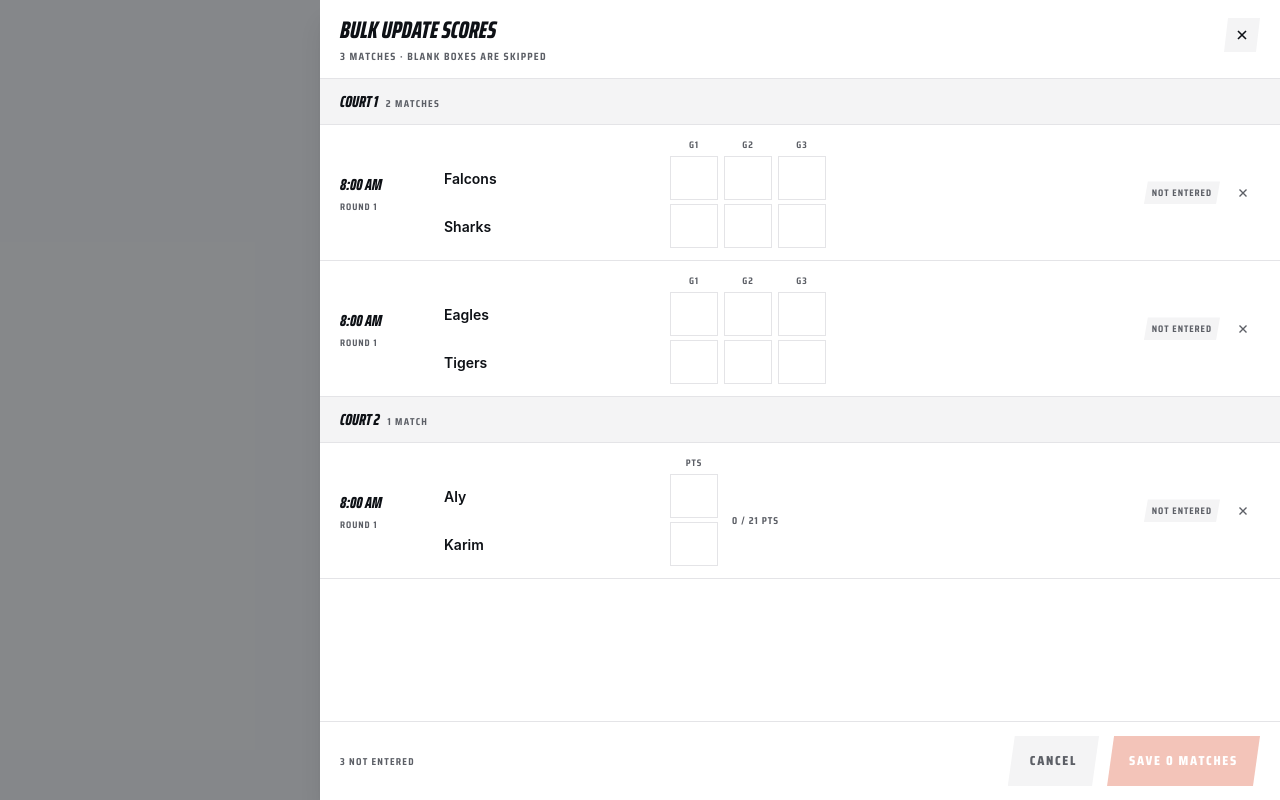
Scenario: keeps a failed row editable and locks the saved one
Type "21" into the field named "Falcons game 1" at coordinates (694, 178), box 670,156 -> 718,200
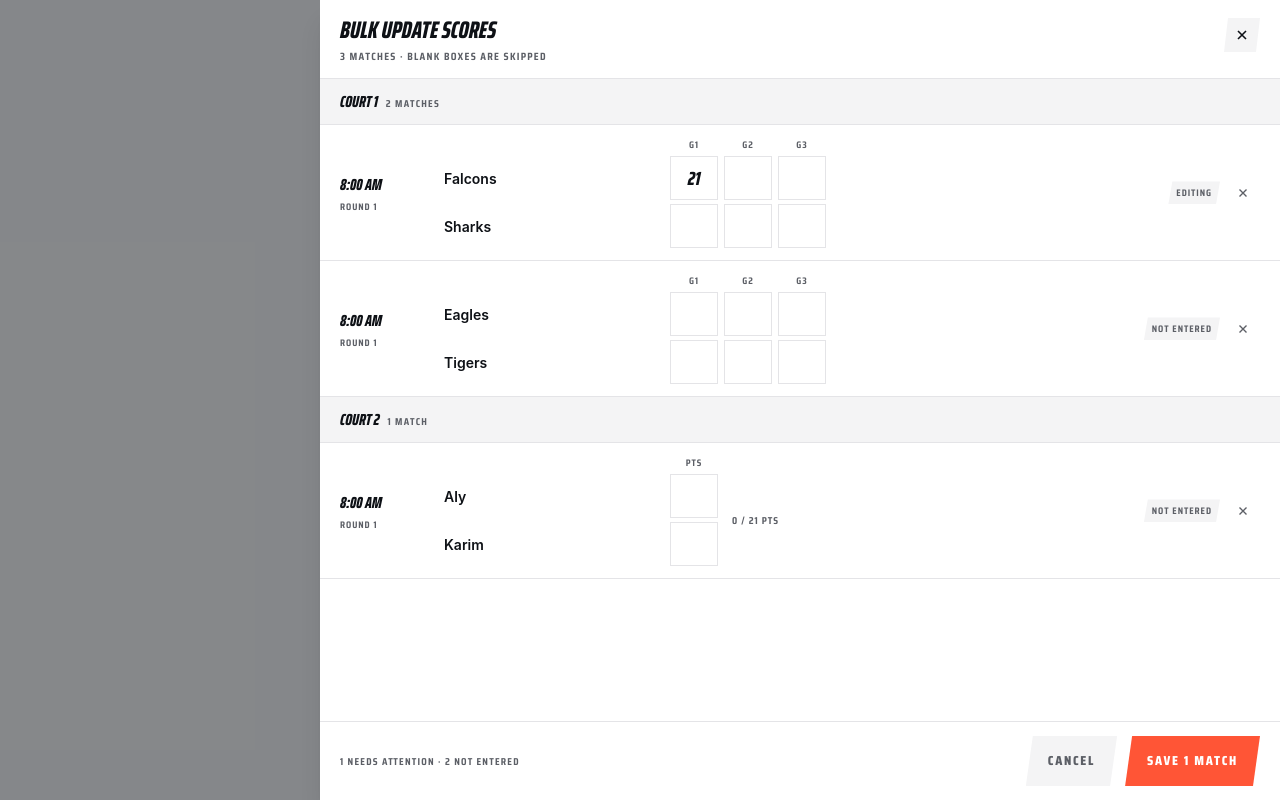
Type "17" into the field named "Sharks game 1" at coordinates (694, 226), box 670,204 -> 718,248
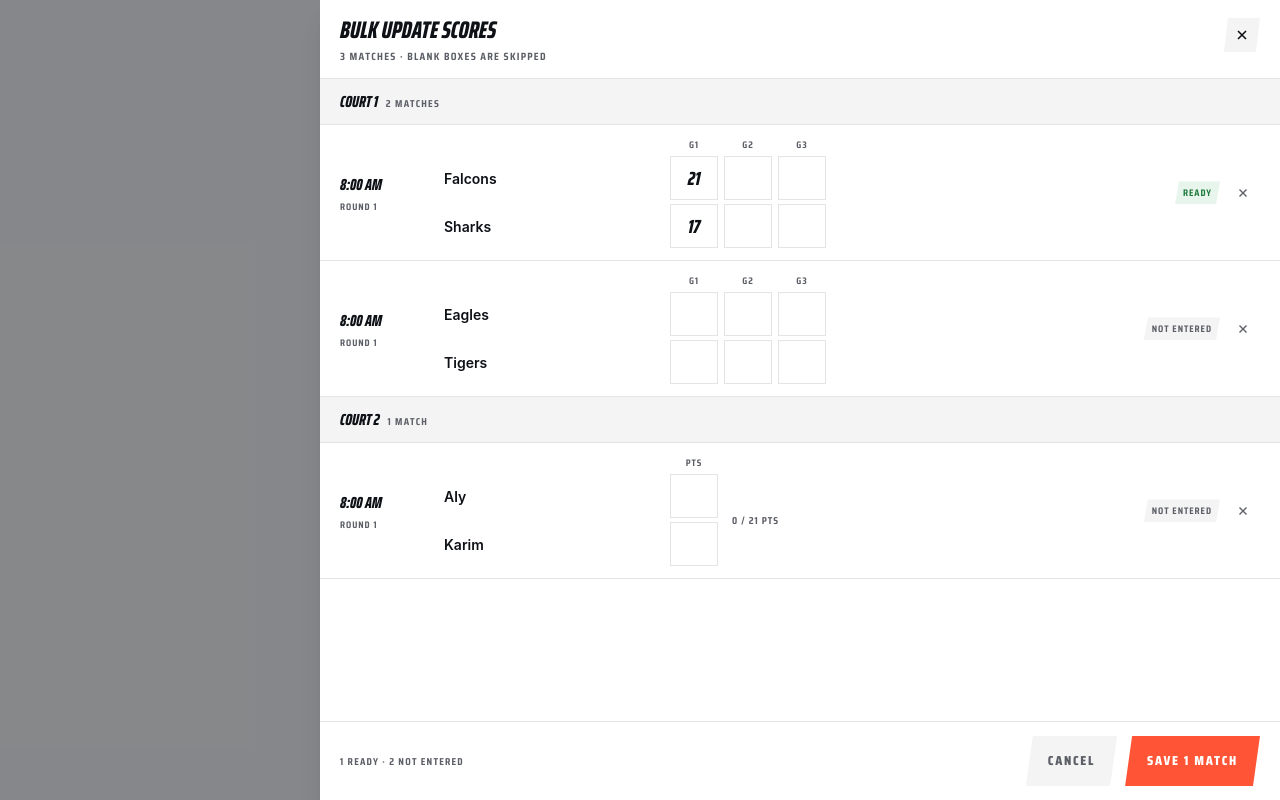
Type "21" into the field named "Eagles game 1" at coordinates (694, 314), box 670,292 -> 718,336
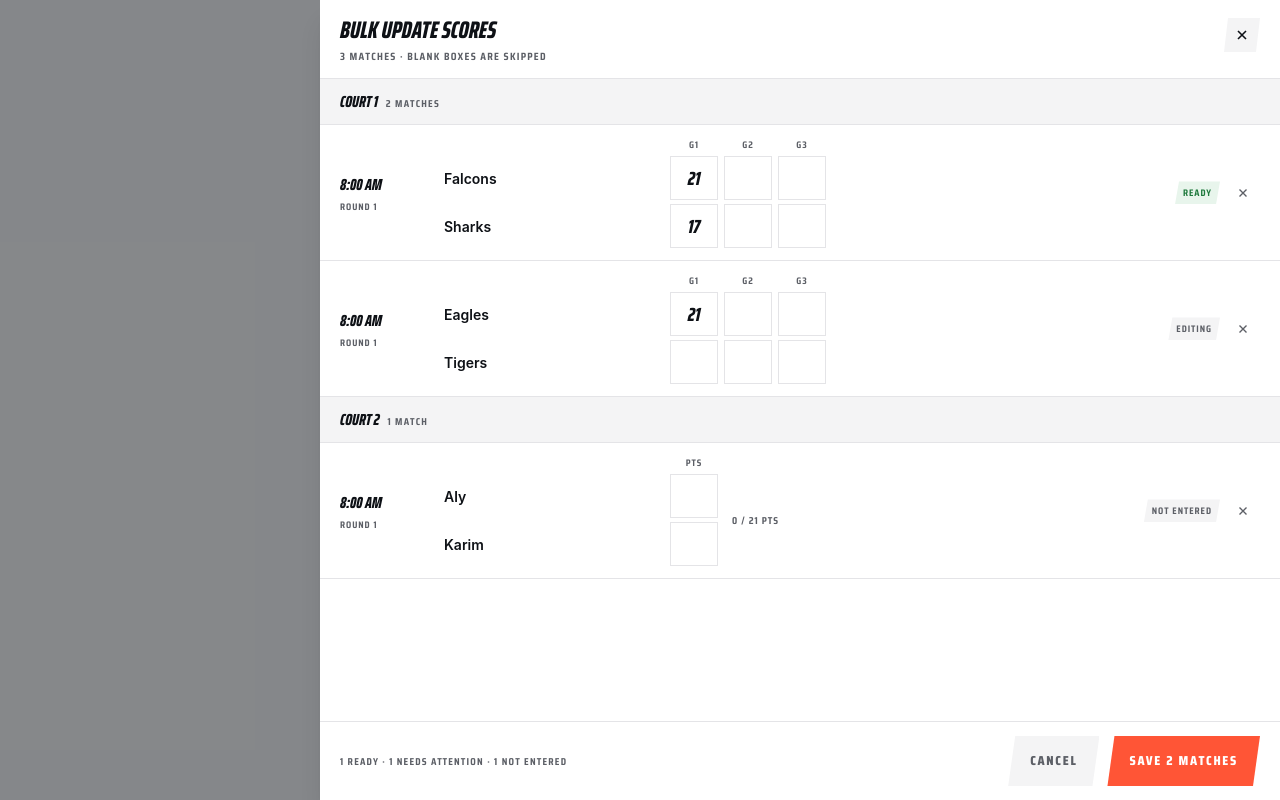
Type "15" into the field named "Tigers game 1" at coordinates (694, 362), box 670,340 -> 718,384
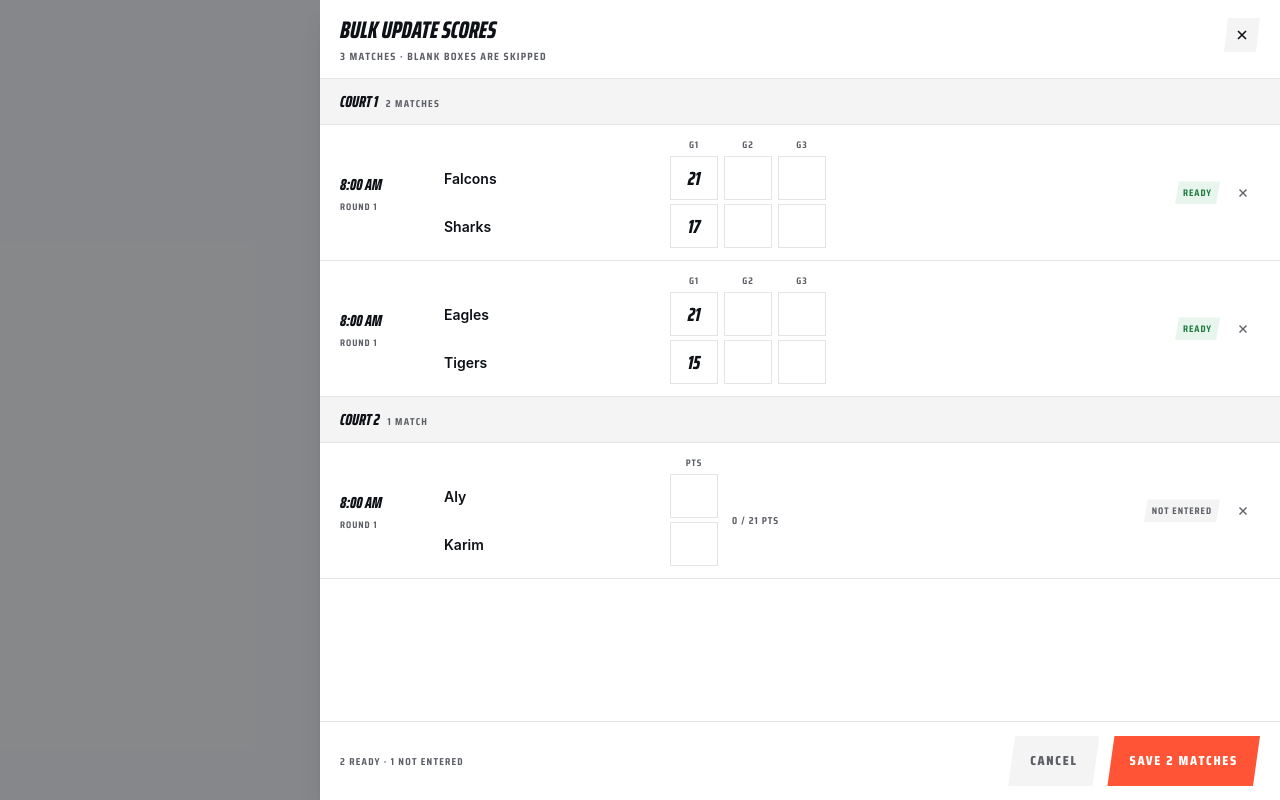
Click the button "Save 2 matches" at coordinates (1184, 761), box 1108,736 -> 1260,786
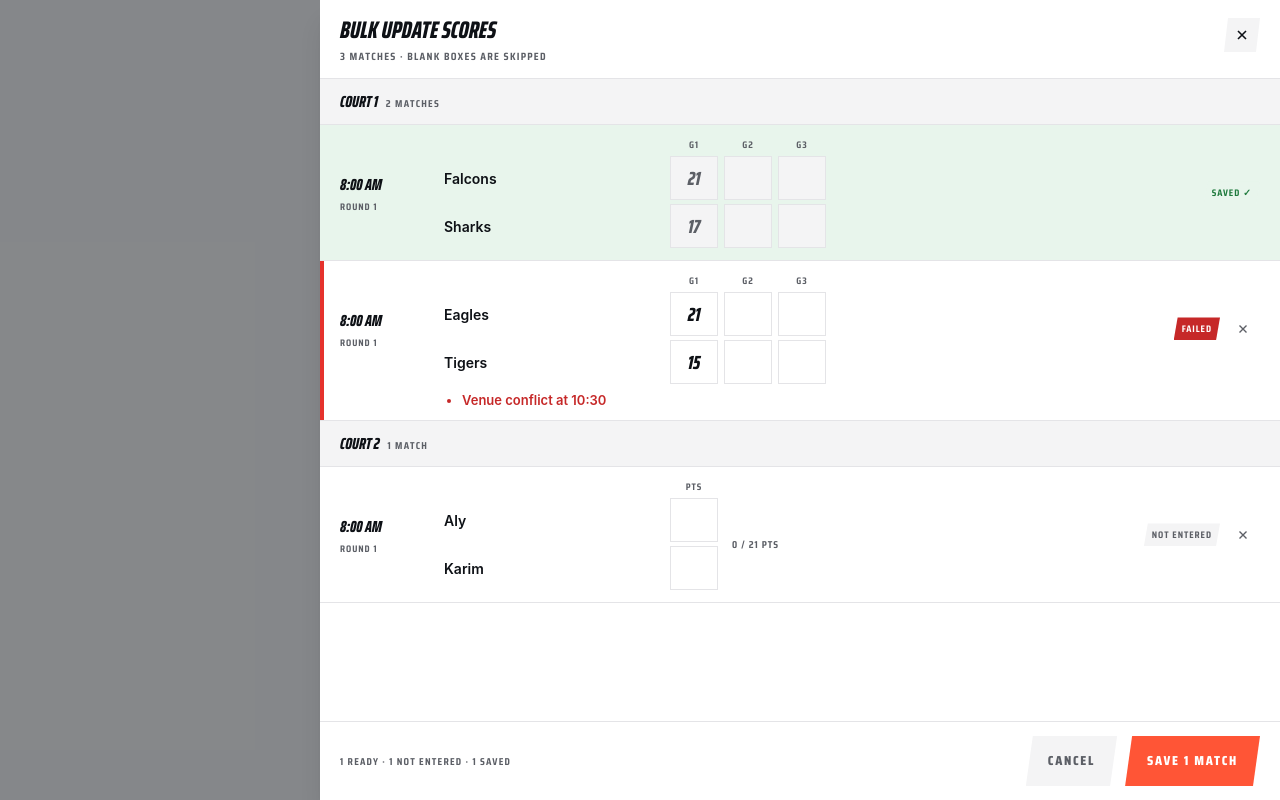
Expected: the list item "Venue conflict at 10:30" is shown, 462,392 -> 606,408
Expected: the text "Saved ✓" is shown, 1204,181 -> 1260,204
Expected: the field named "Falcons game 1" is disabled, 670,156 -> 718,200
